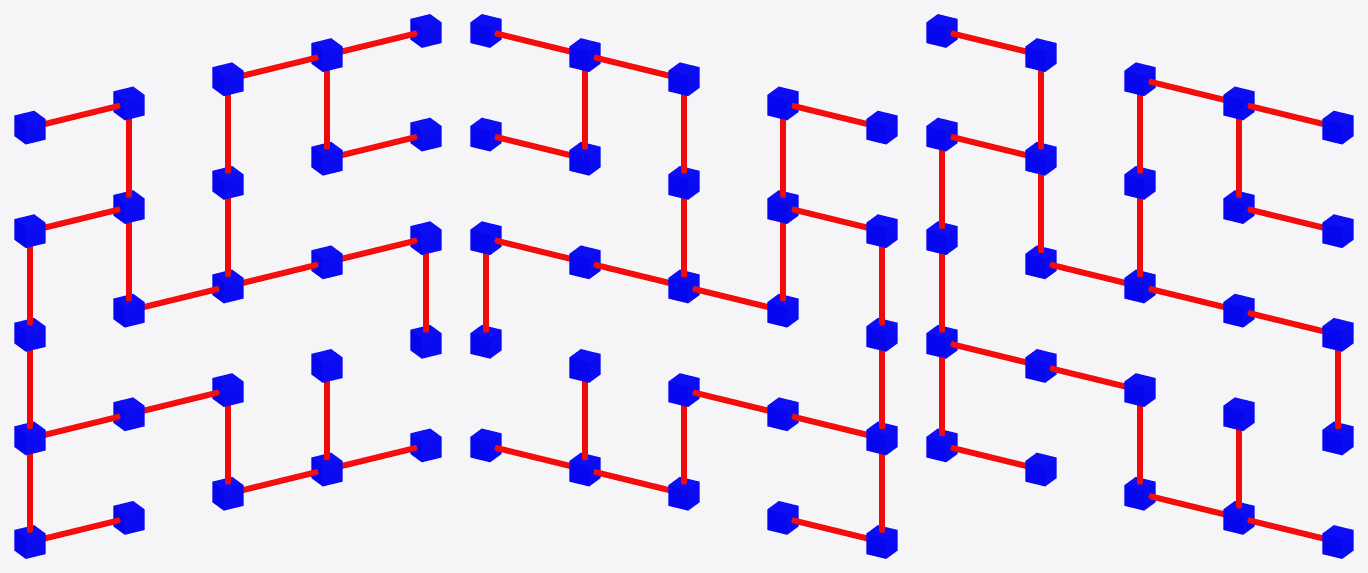
File: Maze5x5.glb
The picture shows the model from 3 angles, left to right: view 1: azimuth 30°, elevation 25°; view 2: azimuth 150°, elevation 25°; view 3: azimuth 330°, elevation 25°; orthographic projection.
Bounding box in the file's own units: 4.2 × 4.2 × 0.2.
